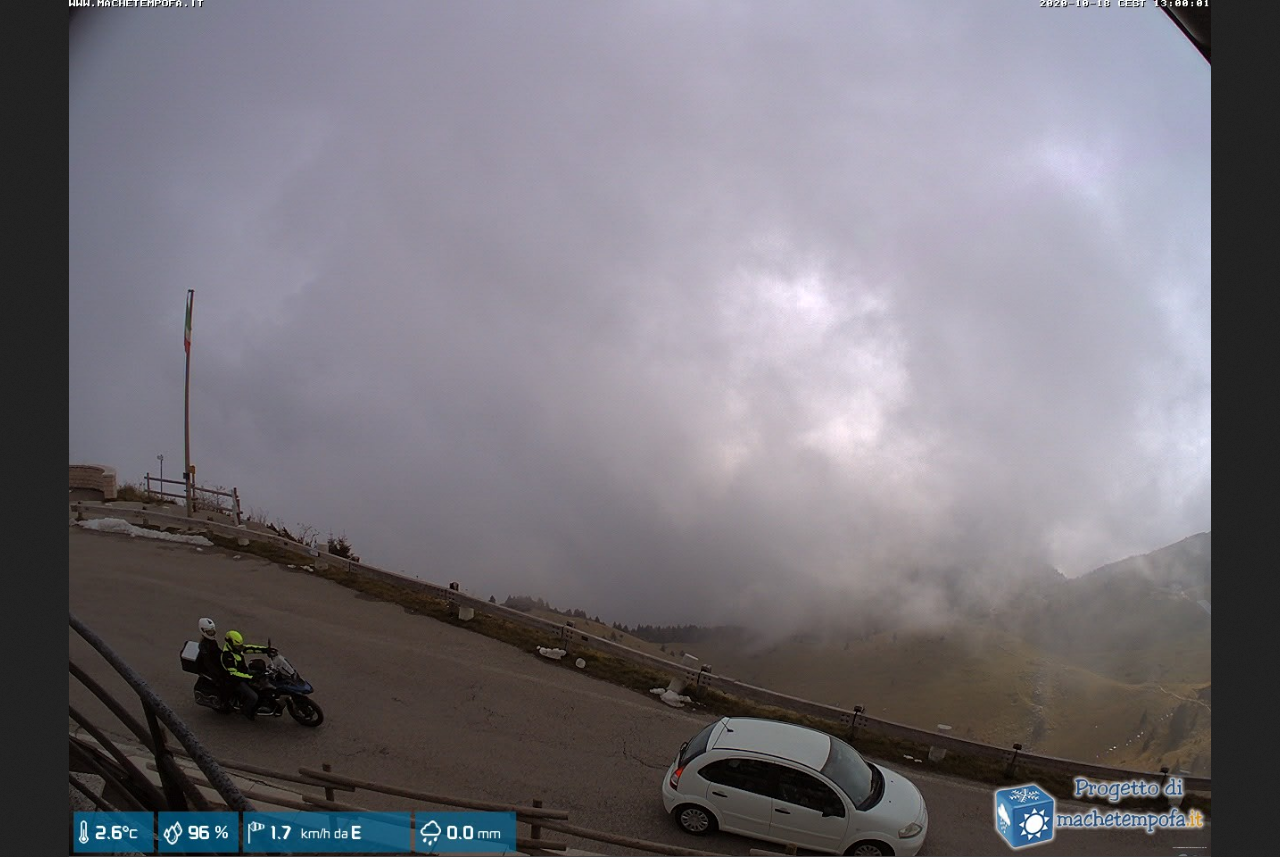no: (181, 298, 193, 355)
